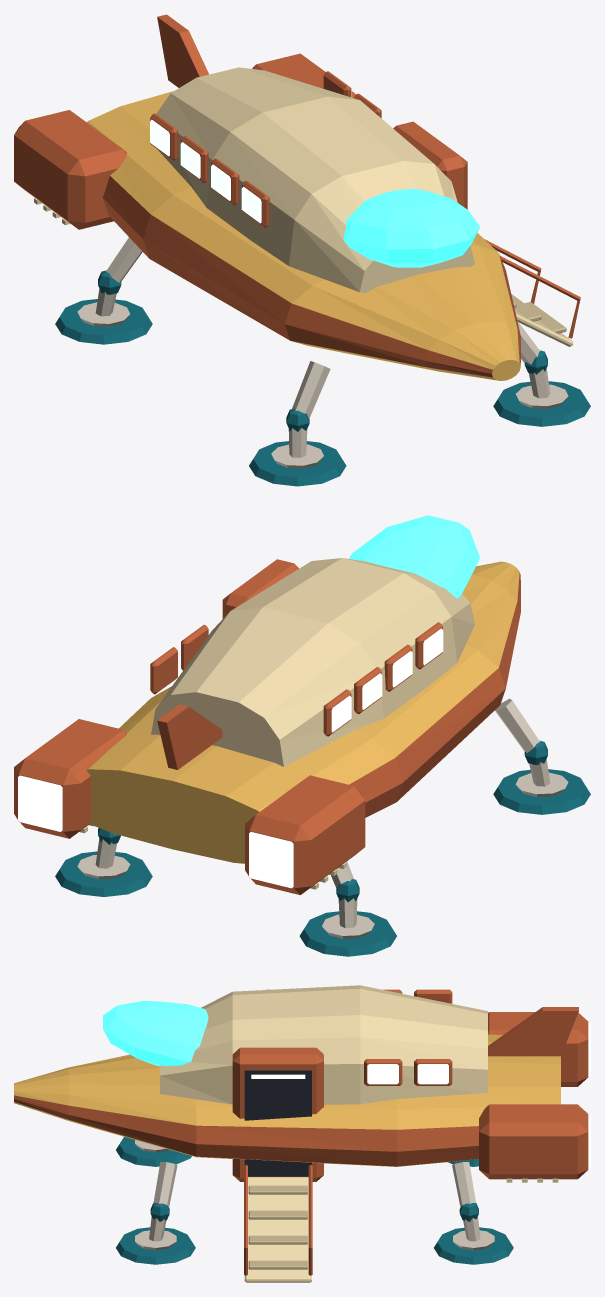
The model's file is dun-p_offen.glb.
The picture shows the model from 3 angles, top to bottom: view 1: azimuth 30°, elevation 25°; view 2: azimuth 150°, elevation 25°; view 3: azimuth 270°, elevation 25°; orthographic projection. The views are drawn at different scales.
Visible parts, largest first — view 1: rumpf, kabine, triebwerk_r, cockpit, landebein_2, landebein_4, fenster, landebein_1, treppe, leitwerk, türmodul, triebwerk_l; view 2: rumpf, kabine, triebwerk_r, triebwerk_l, cockpit, fenster, landebein_2, landebein_4, landebein_3, leitwerk, türmodul; view 3: rumpf, kabine, triebwerk_l, treppe, cockpit, türöffnung, türmodul, landebein_1, landebein_3, leitwerk, fenster, triebwerk_r (+1 smaller).
Boxes of the visible parts, left/top/right/bottom form: rumpf: left=87, top=91, right=520, bottom=380; kabine: left=156, top=67, right=474, bottom=292; triebwerk_r: left=14, top=110, right=126, bottom=229; cockpit: left=343, top=188, right=479, bottom=267; landebein_2: left=249, top=361, right=346, bottom=486; landebein_4: left=55, top=237, right=152, bottom=344; fenster: left=150, top=71, right=382, bottom=227; landebein_1: left=493, top=321, right=590, bottom=426; treppe: left=484, top=239, right=580, bottom=346; leitwerk: left=157, top=14, right=208, bottom=87; türmodul: left=393, top=121, right=467, bottom=209; triebwerk_l: left=252, top=53, right=356, bottom=97; rumpf: left=86, top=561, right=520, bottom=863; kabine: left=151, top=558, right=474, bottom=766; triebwerk_r: left=245, top=775, right=365, bottom=895; triebwerk_l: left=14, top=719, right=126, bottom=838; cockpit: left=349, top=515, right=479, bottom=598; fenster: left=150, top=622, right=443, bottom=736; landebein_2: left=493, top=698, right=590, bottom=814; landebein_4: left=299, top=861, right=396, bottom=956; landebein_3: left=55, top=828, right=152, bottom=896; leitwerk: left=157, top=704, right=222, bottom=769; türmodul: left=222, top=559, right=298, bottom=618; rumpf: left=14, top=1034, right=560, bottom=1166; kabine: left=160, top=985, right=487, bottom=1104; triebwerk_l: left=479, top=1104, right=590, bottom=1182; treppe: left=244, top=1164, right=312, bottom=1282; cockpit: left=103, top=1000, right=208, bottom=1066; türöffnung: left=244, top=1070, right=311, bottom=1176; türmodul: left=232, top=1047, right=323, bottom=1181; landebein_1: left=116, top=1162, right=195, bottom=1264; landebein_3: left=434, top=1162, right=513, bottom=1264; leitwerk: left=488, top=1007, right=578, bottom=1056; fenster: left=266, top=989, right=452, bottom=1085; triebwerk_r: left=488, top=1012, right=590, bottom=1086.
Bounding box in the file's own units: 0.0988 × 0.06 × 0.1582.
